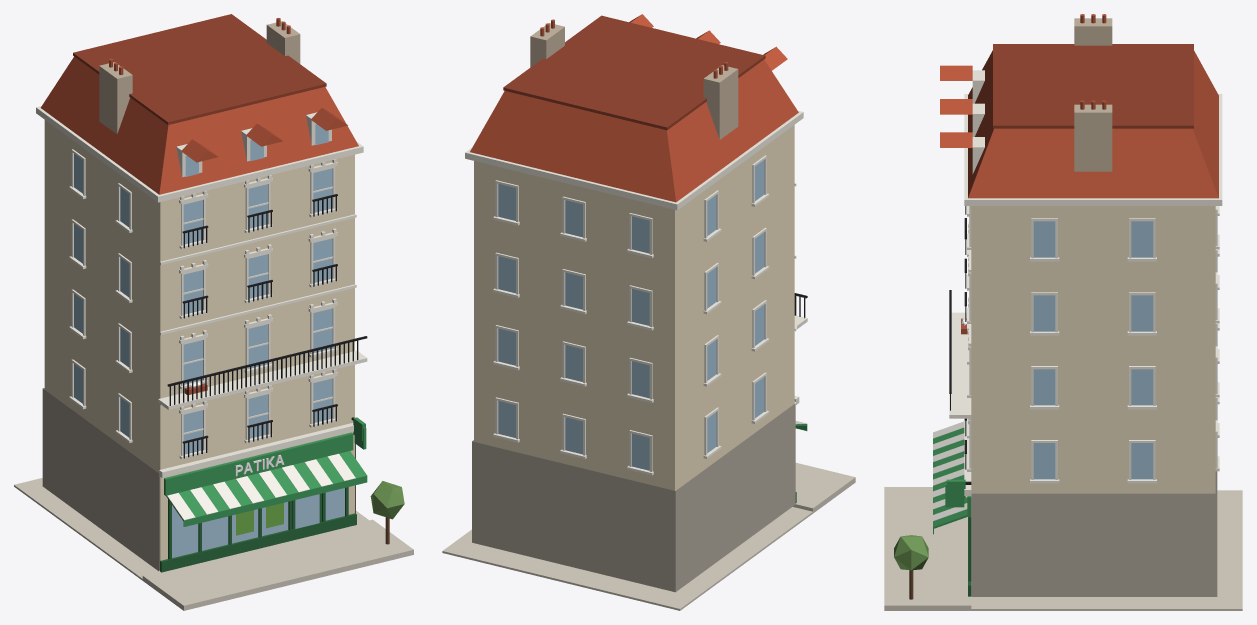
Rendered from Dukkan_genel_patika_Hafif.fbx.
3 renders of one model, left to right at view 1: azimuth 30°, elevation 25°; view 2: azimuth 150°, elevation 25°; view 3: azimuth 270°, elevation 25°, orthographic. The views are drawn at different scales.
Visible parts, largest first — view 1: Dukkan_genel_patika_Hafif; view 2: Dukkan_genel_patika_Hafif; view 3: Dukkan_genel_patika_Hafif.
Part boxes in pixels (x1,y1,x2,y2): Dukkan_genel_patika_Hafif: (14,14,413,610); Dukkan_genel_patika_Hafif: (442,14,855,610); Dukkan_genel_patika_Hafif: (884,14,1242,610).
Size of the model in its own units: 10.35 by 20.02 by 13.19.
